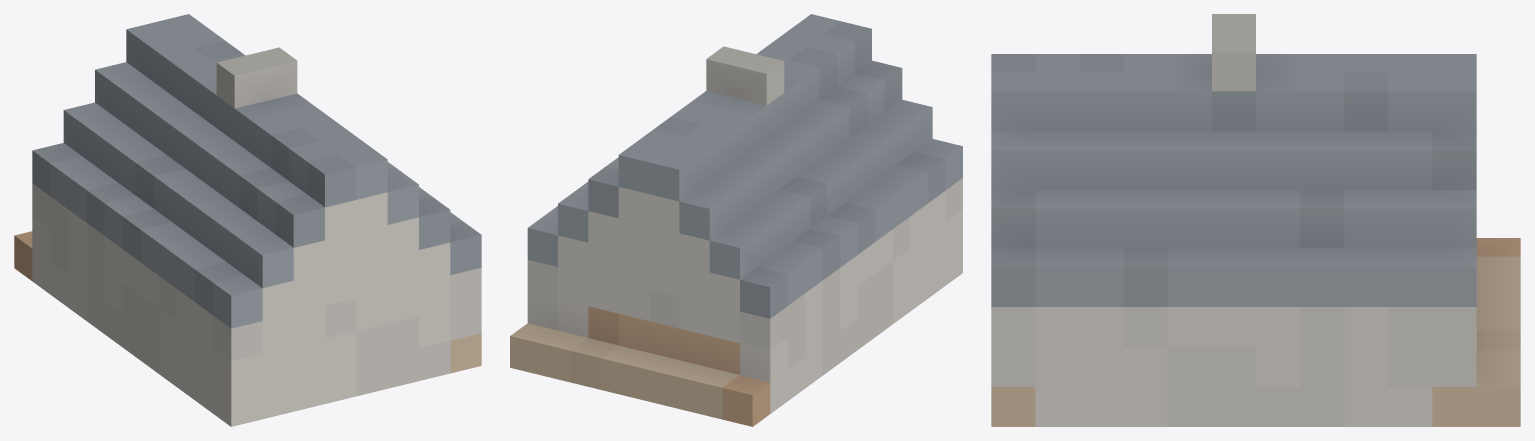
File: copper_smelter.lite.glb
3 views of the same model, side by side, from view 1: azimuth 30°, elevation 25°; view 2: azimuth 150°, elevation 25°; view 3: azimuth 270°, elevation 25° (orthographic). The views are drawn at different scales.
Visible parts, largest first — view 1: copper_smelter; view 2: copper_smelter; view 3: copper_smelter.
Part boxes in pixels (x1=…): copper_smelter: x1=14, y1=14, x2=481, y2=426; copper_smelter: x1=510, y1=14, x2=962, y2=426; copper_smelter: x1=991, y1=14, x2=1520, y2=426.
Bounding box in the file's own units: 4 × 4 × 6.
